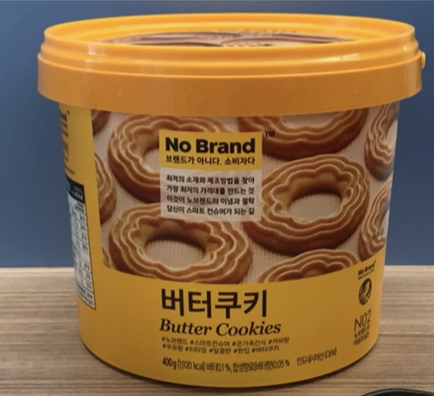cookies_400g-499g: (88, 94, 381, 359)
